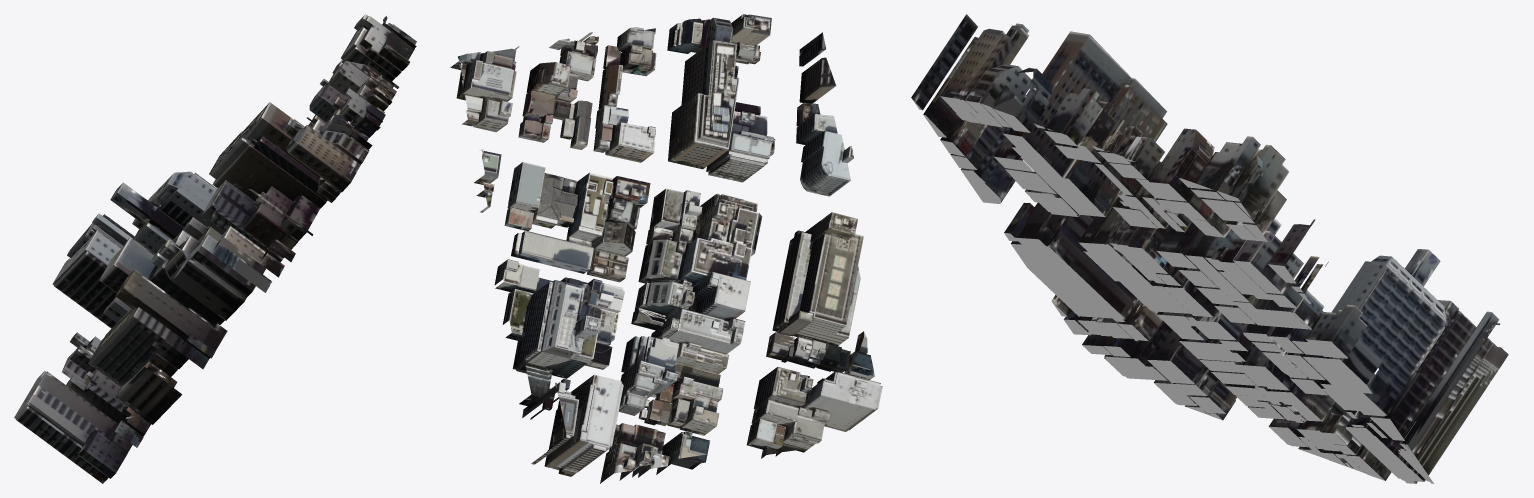
The model's file is 39534_bldg_Building.glb.
3 views of the same model, side by side, from view 1: azimuth 30°, elevation 25°; view 2: azimuth 150°, elevation 25°; view 3: azimuth 270°, elevation 25° (orthographic). The views are drawn at different scales.
Bounding box in the file's own units: 163 × 137 × 166.
4 materials, 3 textured.
